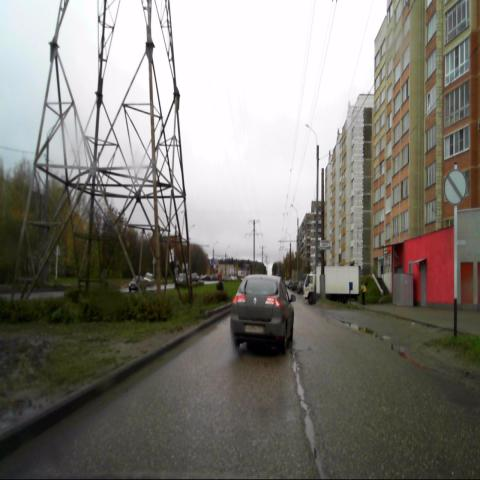3_31: (444, 169, 466, 205)
